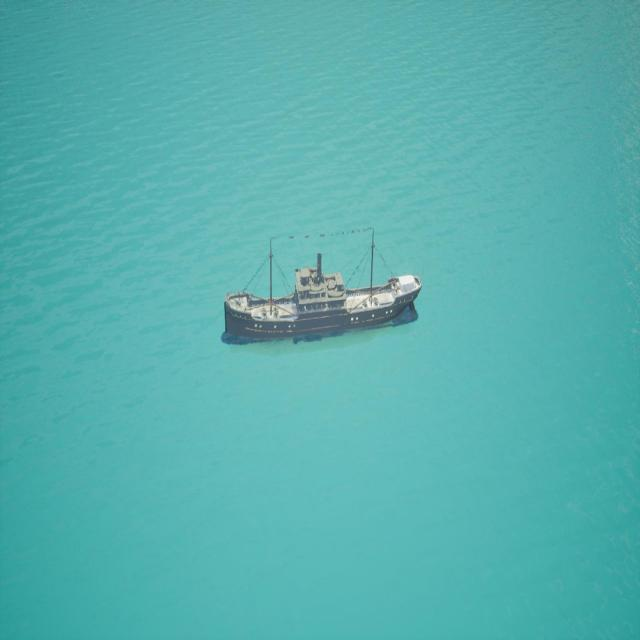fishing ship: (226, 228, 420, 343)
